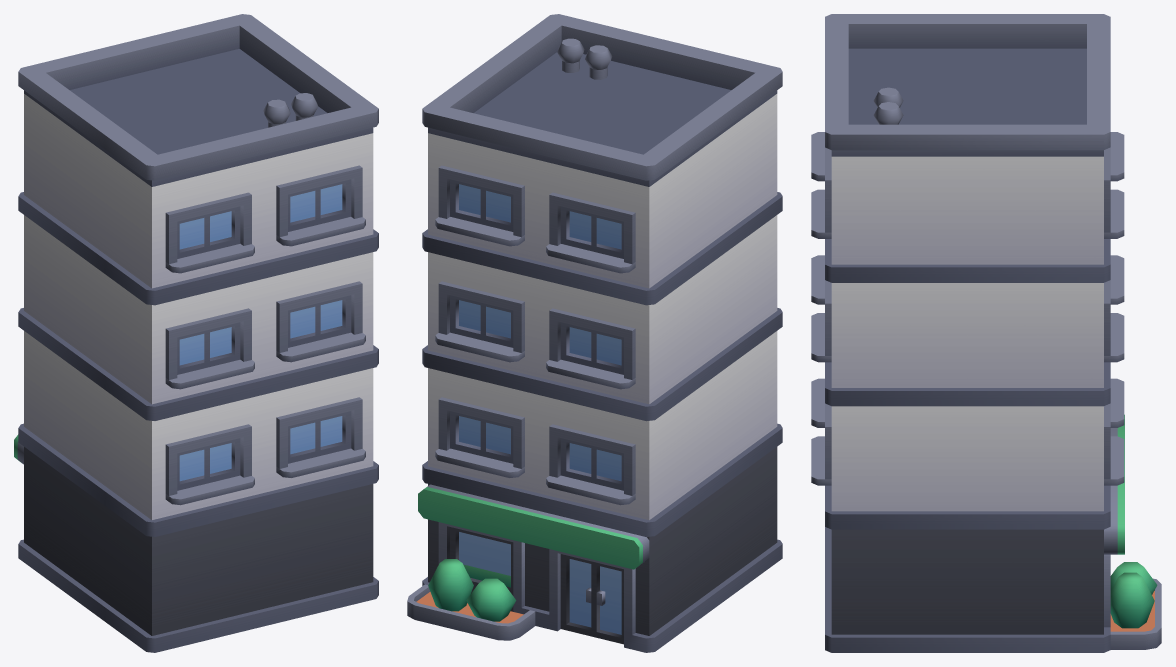
The model's file is building-f.glb.
3 renders of one model, left to right at view 1: azimuth 30°, elevation 25°; view 2: azimuth 150°, elevation 25°; view 3: azimuth 270°, elevation 25°, orthographic. The views are drawn at different scales.
Visible parts, largest first — view 1: building-f; view 2: building-f; view 3: building-f.
Part boxes in pixels (box(x1,y1,x2,y2)): building-f: box(14, 14, 378, 652); building-f: box(407, 14, 782, 652); building-f: box(811, 14, 1161, 652).
Bounding box in the file's own units: 0.84 × 1.69 × 1.03.
1 material, 1 textured.
